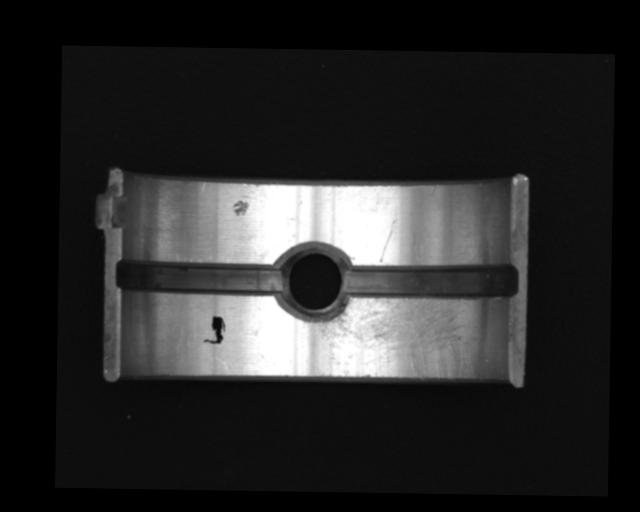blot: (203, 314, 226, 345)
bruise: (231, 200, 249, 216)
gap: (342, 259, 518, 302), (116, 259, 285, 296)
hole: (278, 244, 349, 323)
nick: (379, 219, 396, 264)
scratch: (316, 298, 484, 380)
